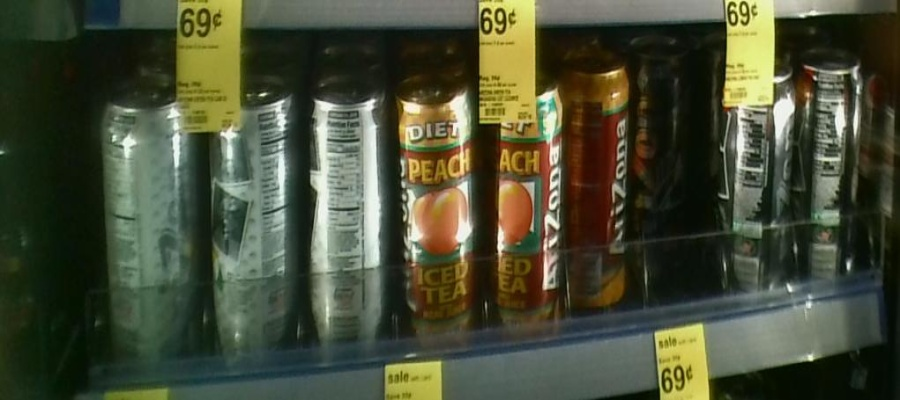bottle: (95, 79, 202, 376), (205, 68, 299, 374), (304, 67, 390, 370), (477, 63, 566, 344), (394, 63, 476, 354), (720, 53, 792, 311), (798, 43, 864, 286), (569, 51, 629, 313), (632, 37, 678, 212)
